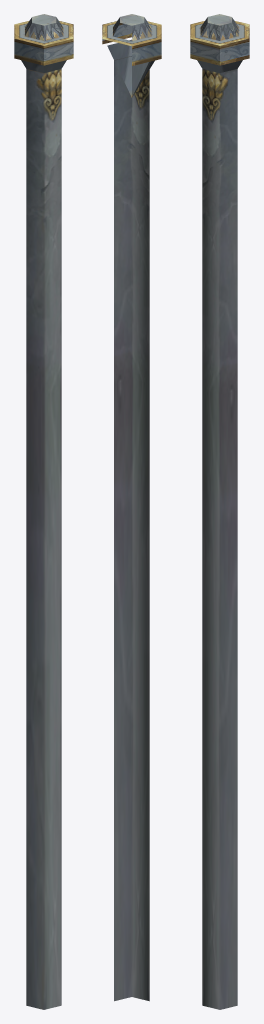
Rendered from fb_yuqinggong_pinjiezhuzi01.FBX.
The picture shows the model from 3 angles, left to right: view 1: azimuth 30°, elevation 25°; view 2: azimuth 150°, elevation 25°; view 3: azimuth 330°, elevation 25°; orthographic projection.
Visible parts, largest first — view 1: fb_yuqinggong_pinjiezhuzi01; view 2: fb_yuqinggong_pinjiezhuzi01; view 3: fb_yuqinggong_pinjiezhuzi01.
Boxes of the visible parts, x1=… form: fb_yuqinggong_pinjiezhuzi01: x1=14, y1=14, x2=73, y2=1009; fb_yuqinggong_pinjiezhuzi01: x1=102, y1=14, x2=161, y2=1001; fb_yuqinggong_pinjiezhuzi01: x1=190, y1=14, x2=249, y2=1009.
Bounding box in the file's own units: 100 × 1591 × 86.73.
